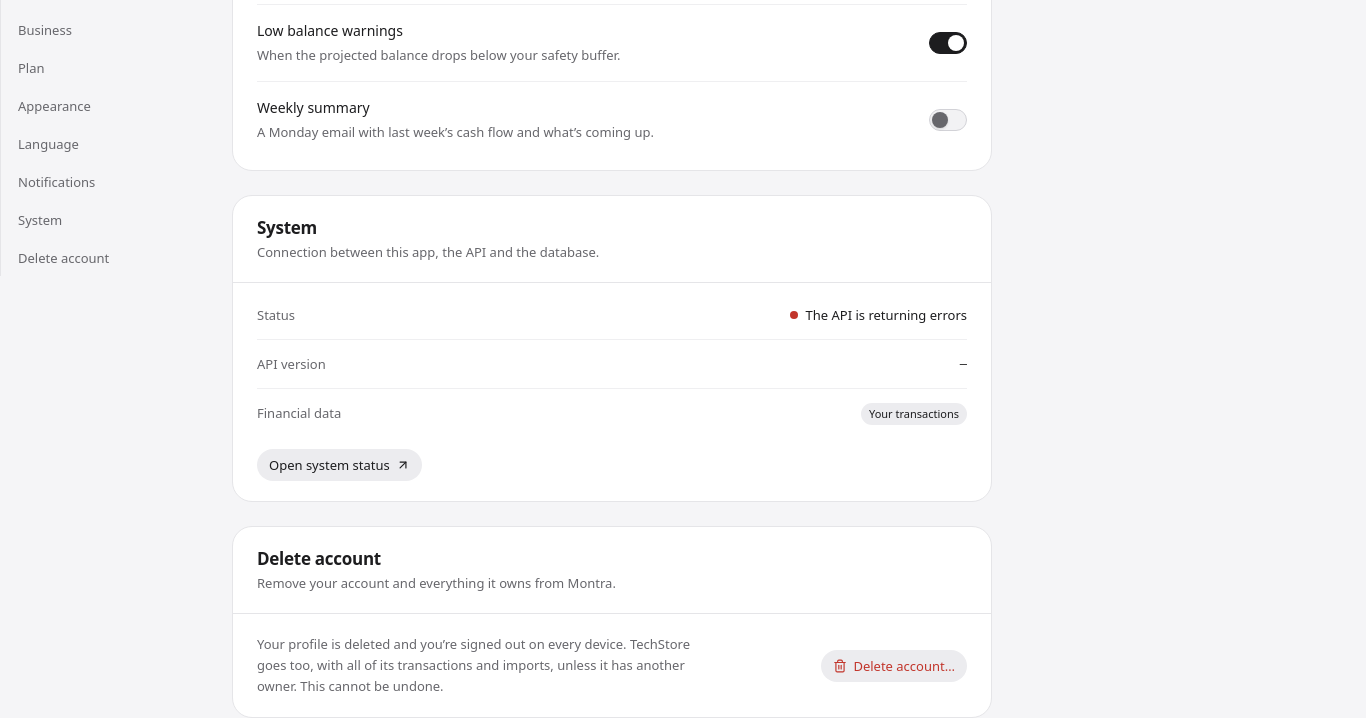
Test: deleting the account › shows a wrong password in the dialog and stays signed in
The image size is (1366, 718).
(page scrolled)
Click the button "Delete account…".
click(894, 666)  # box 821,650 -> 967,682
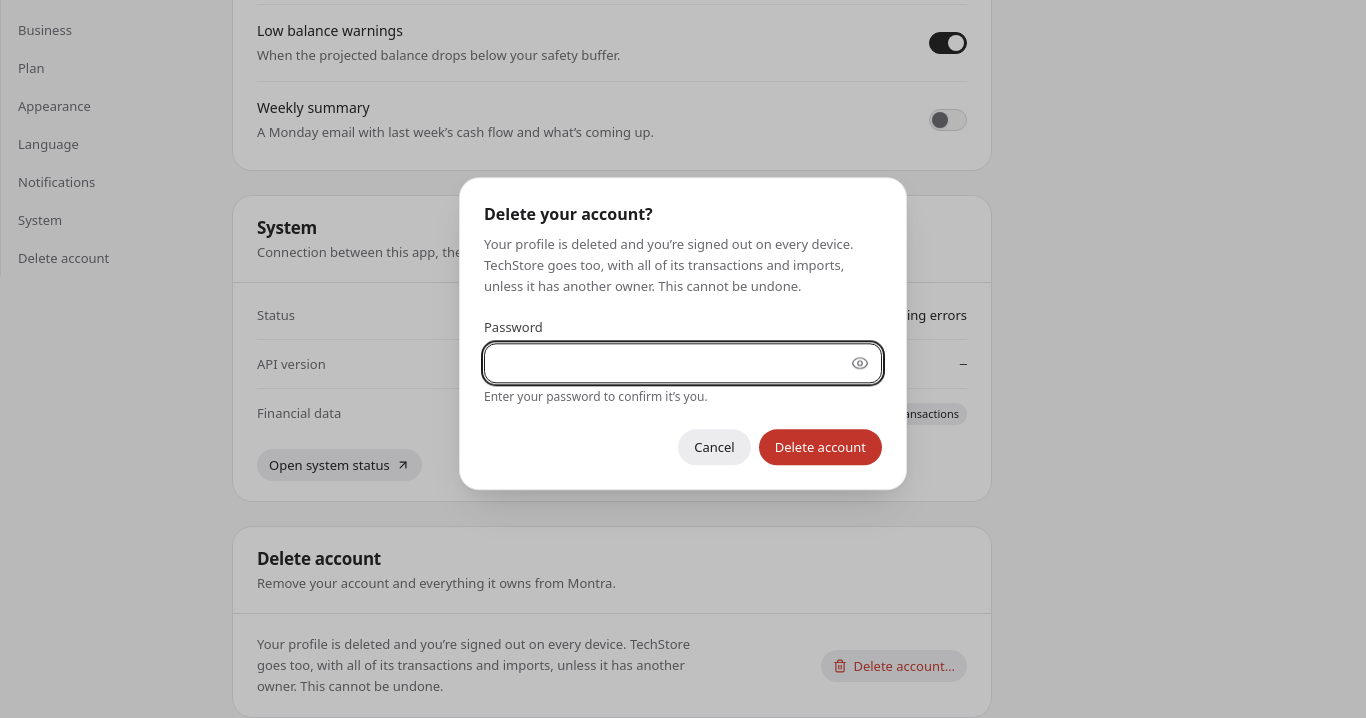
Type "not my password" into the password field labelled "Password".
click(683, 364); type("not my password")  # box 484,344 -> 882,384
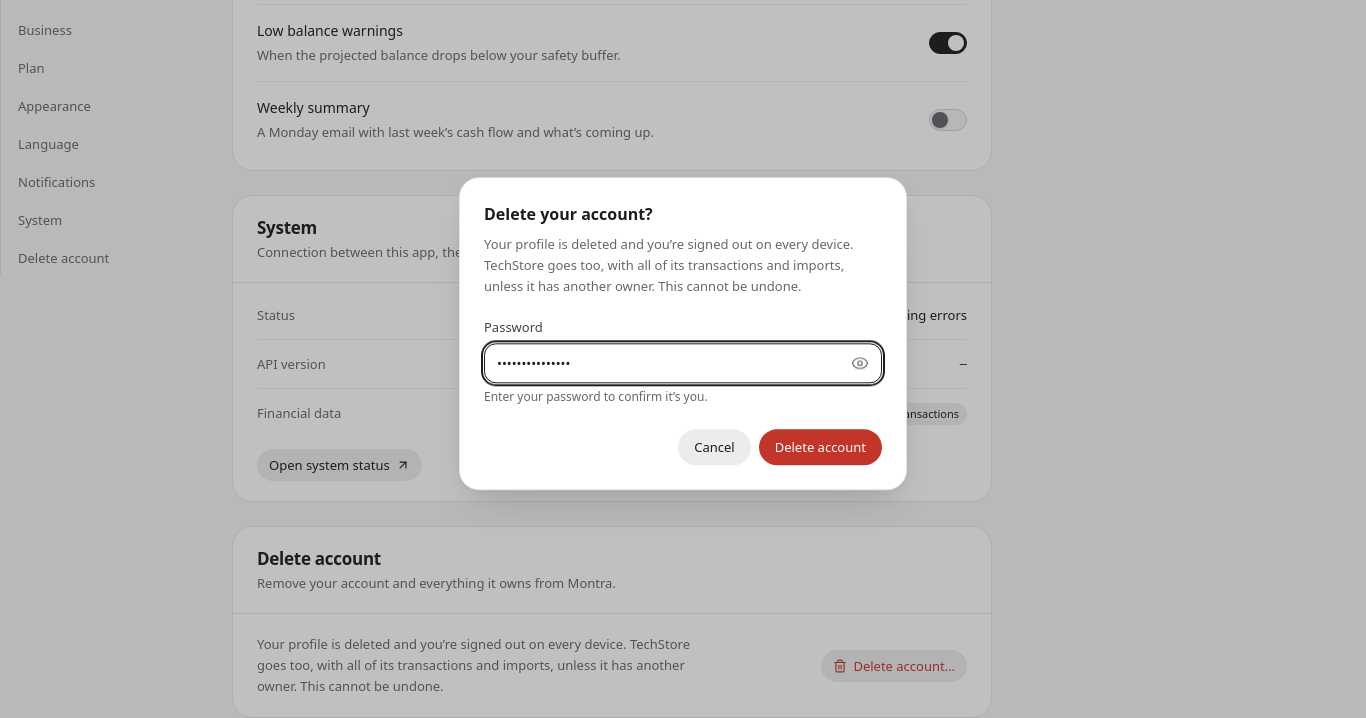
Click the button "Delete account".
click(820, 448)  # box 759,430 -> 882,466
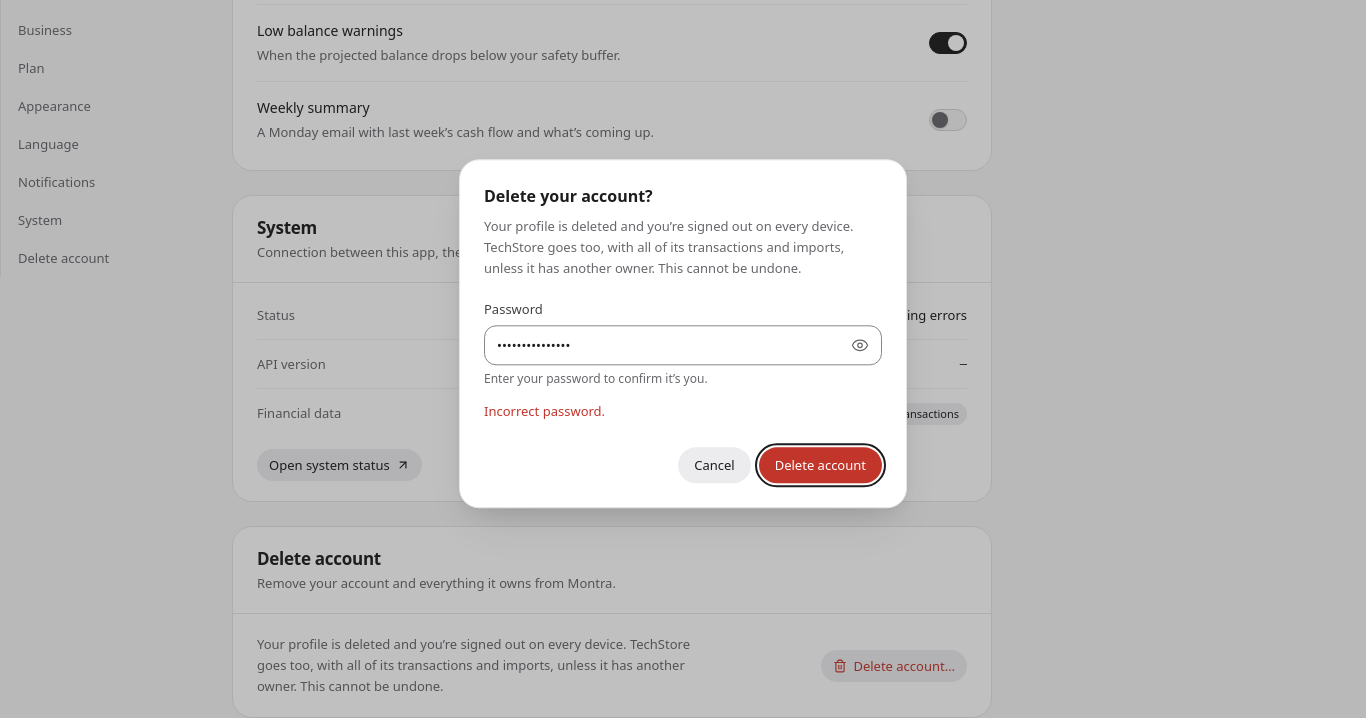
Result: the message reads "Incorrect password." at 484,403 -> 605,421
